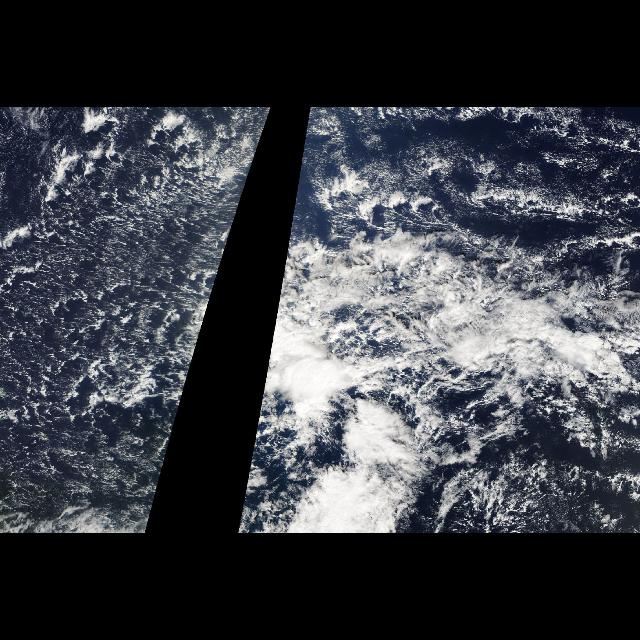Gravel: (0, 110, 242, 532)
